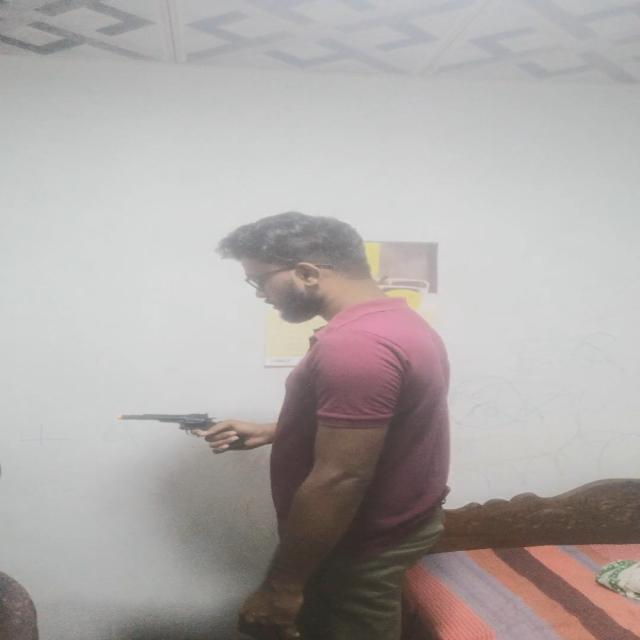Gun_Holder: (102, 411, 258, 455)
Person: (190, 209, 459, 640)
